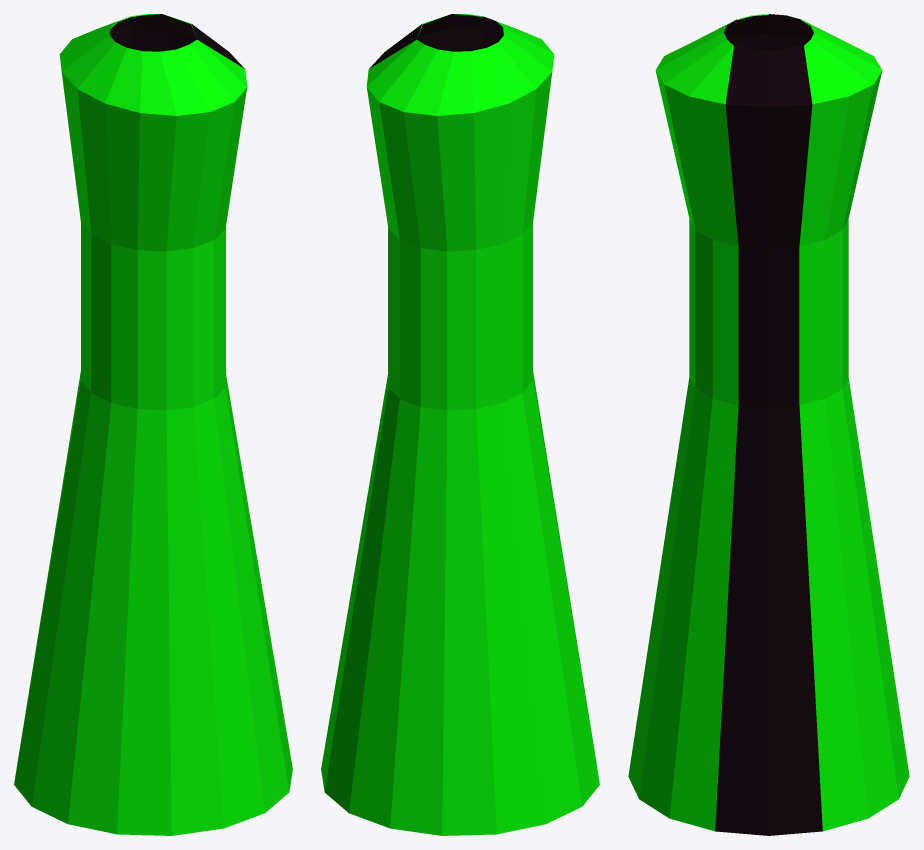
The model's file is Minerva_hood.fbx.
The picture shows the model from 3 angles, left to right: view 1: azimuth 30°, elevation 25°; view 2: azimuth 150°, elevation 25°; view 3: azimuth 270°, elevation 25°; orthographic projection.
Parts seen in each view (by area): view 1: Cylinder; view 2: Cylinder; view 3: Cylinder.
Part boxes in pixels (<box>): Cylinder: <box>14,14,292,835</box>; Cylinder: <box>321,14,599,835</box>; Cylinder: <box>628,14,909,835</box>.
Size of the model in its own units: 300 by 876 by 300.
